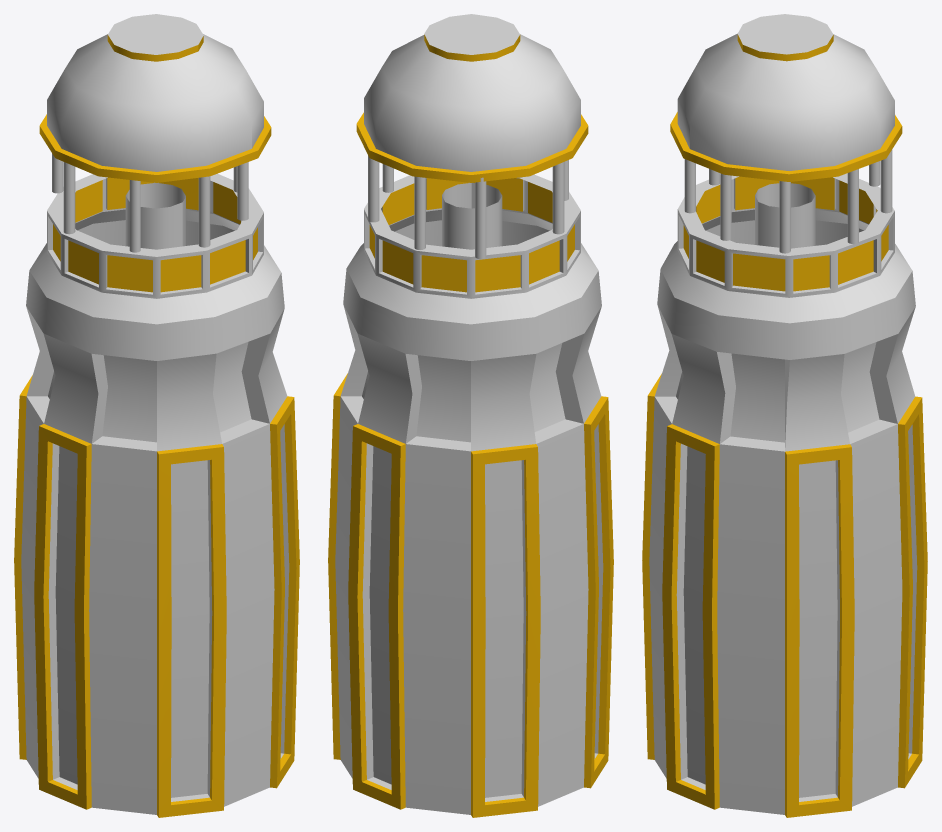
File: torni.fbx
3 views of the same model, side by side, from view 1: azimuth 30°, elevation 25°; view 2: azimuth 150°, elevation 25°; view 3: azimuth 270°, elevation 25° (orthographic).
Parts seen in each view (by area): view 1: Circle, Circle.004; view 2: Circle, Circle.004; view 3: Circle, Circle.004.
Boxes of the visible parts, x1,y1,x2,y2 form: Circle: (14,14,299,817); Circle.004: (52,153,248,252); Circle: (328,14,613,817); Circle.004: (368,155,568,258); Circle: (642,14,927,817); Circle.004: (684,149,892,253).
Bounding box in the file's own units: 7.93 × 22.7 × 7.93.
